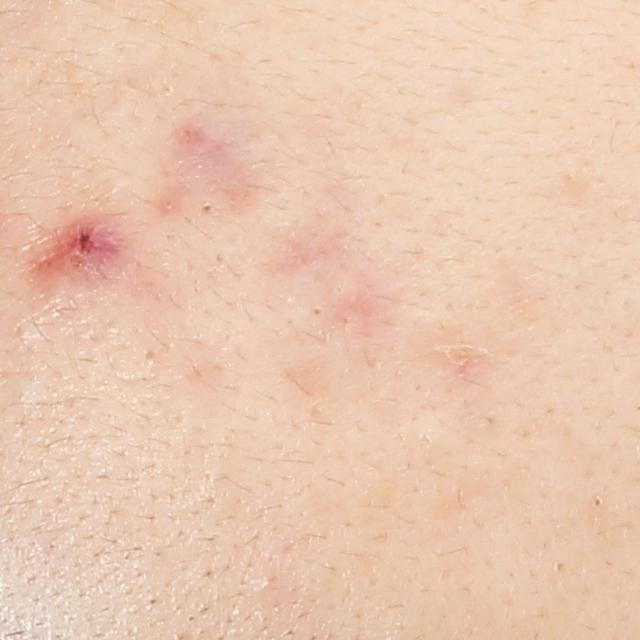comedo: (138, 344, 162, 366), (306, 300, 325, 321), (258, 574, 278, 592), (198, 199, 215, 217), (590, 493, 606, 510)
papule: (26, 219, 124, 288)
